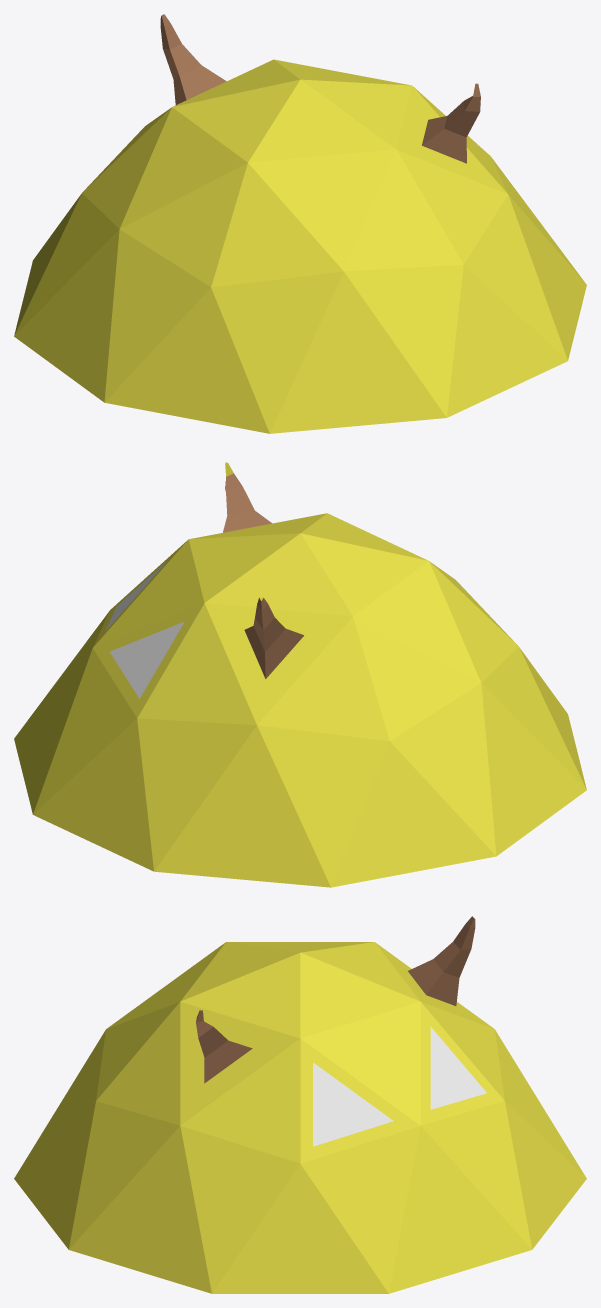
The model's file is Slimez.fbx.
3 views of the same model, one above another, from view 1: azimuth 30°, elevation 25°; view 2: azimuth 150°, elevation 25°; view 3: azimuth 270°, elevation 25° (orthographic). The views are drawn at different scales.
Visible parts, largest first — view 1: Icosphere; view 2: Icosphere; view 3: Icosphere.
Boxes of the visible parts, box(x1,y1,x2,y2) form: Icosphere: box(14, 14, 586, 433); Icosphere: box(14, 462, 586, 887); Icosphere: box(14, 916, 586, 1293).
Bounding box in the file's own units: 214 × 103 × 225.
